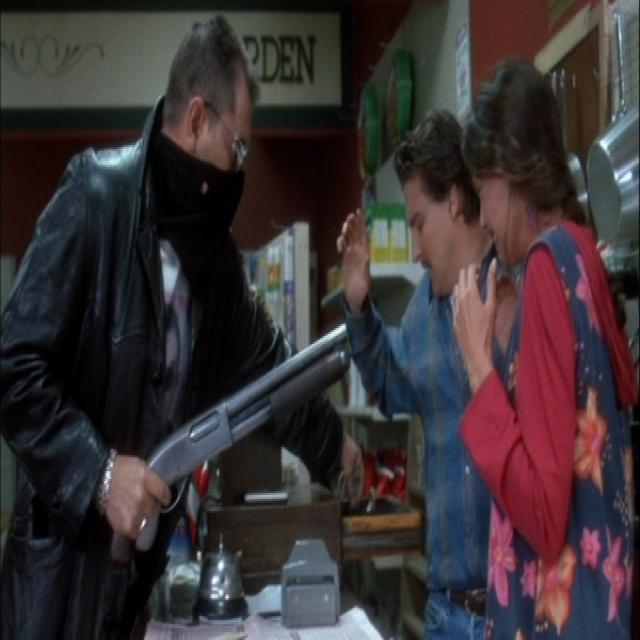rifle: (113, 320, 357, 577)
